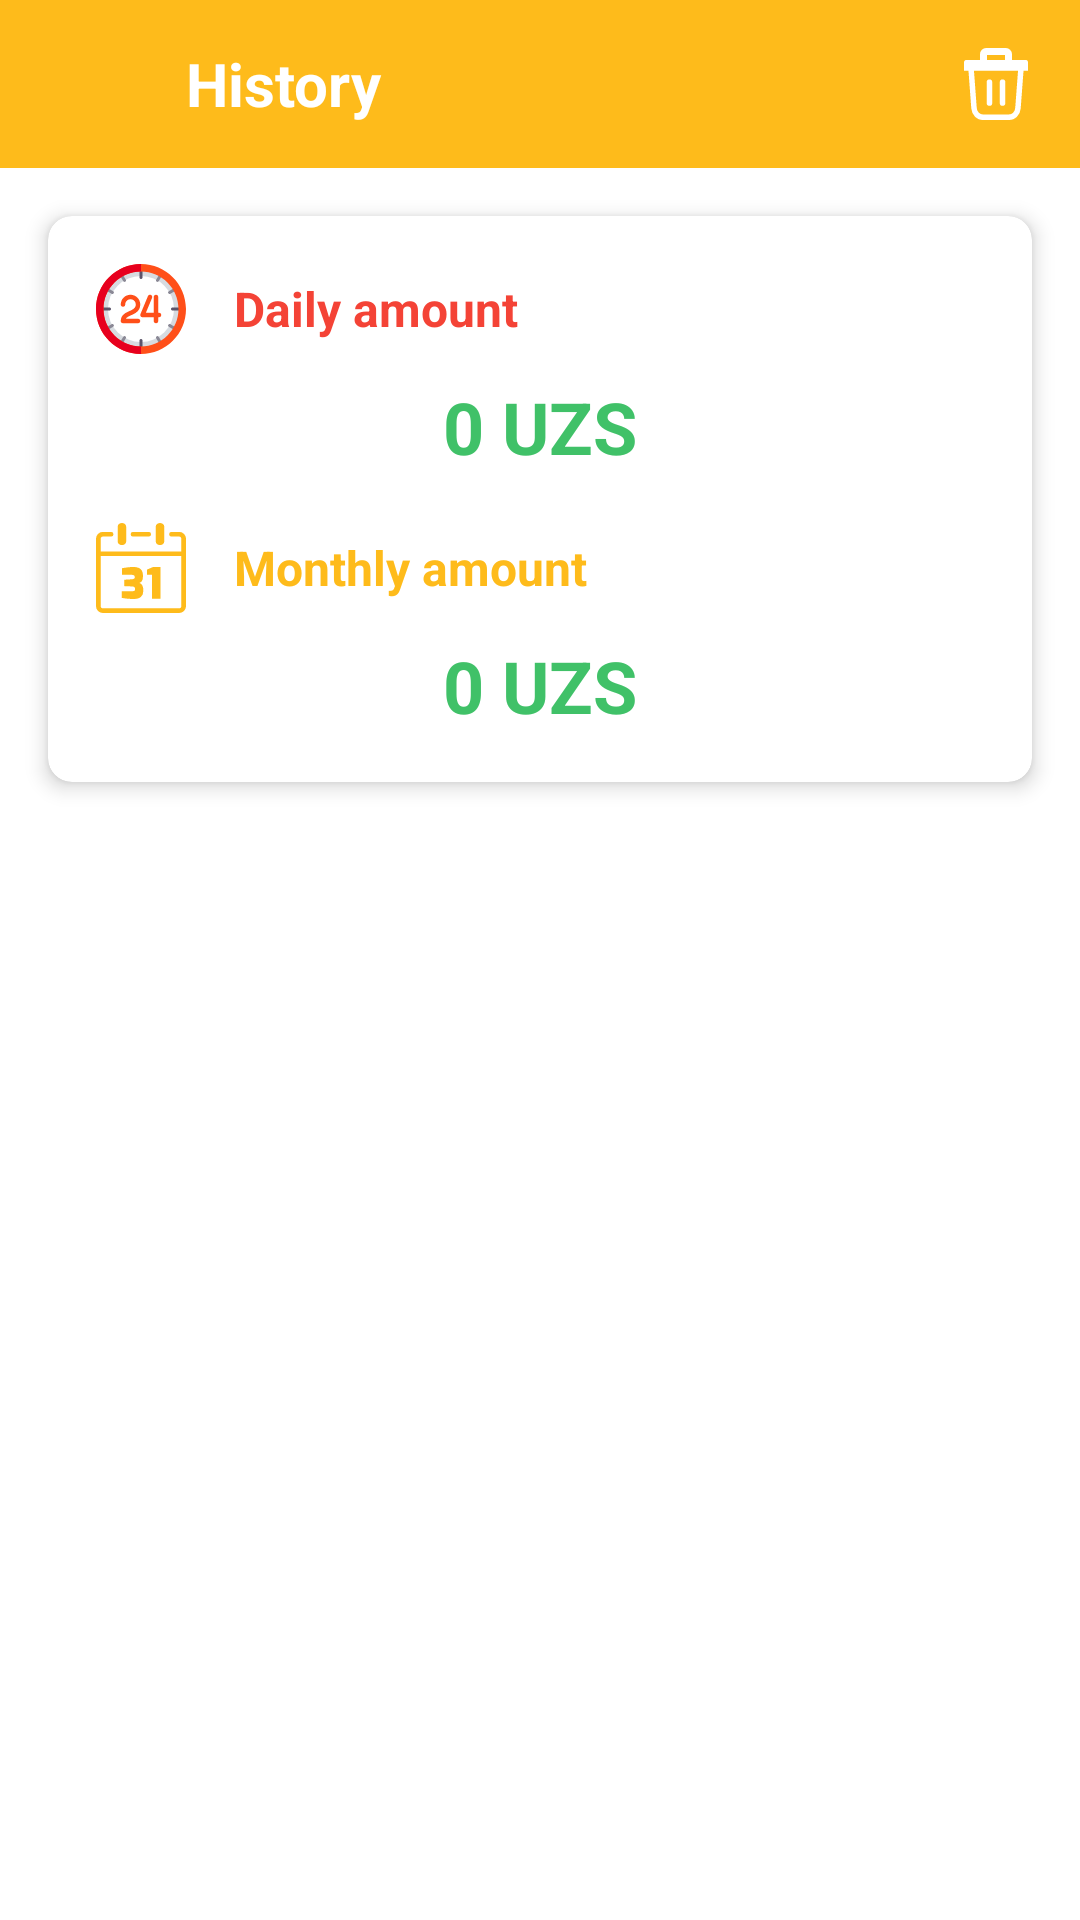

Named icons in this screenshot (1080 x 1920) and their bounding boxes, (x1, y1, x2, y2):
clear: (964, 48, 1028, 120)
